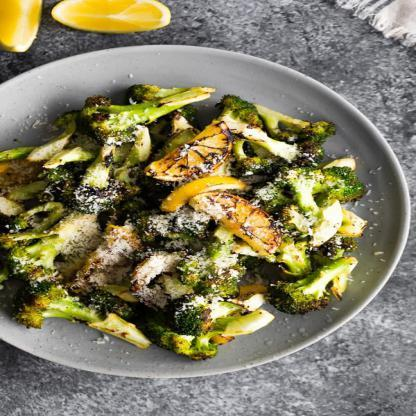broccoli: (0, 82, 366, 360)
